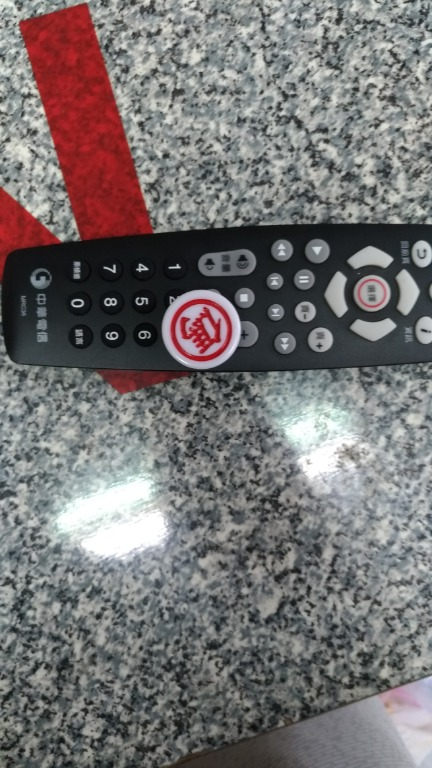r-knight: (153, 285, 244, 373)
